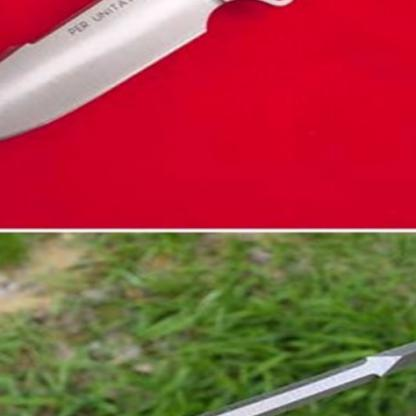knife: (0, 0, 415, 153), (0, 278, 415, 415)
